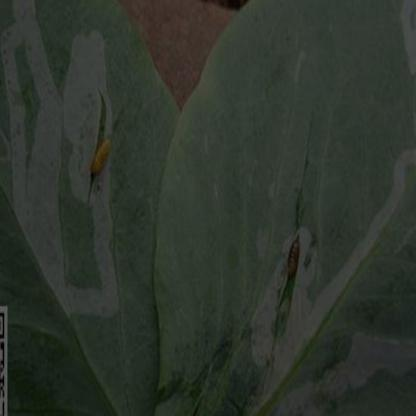whorl-maggot: (88, 127, 115, 188), (282, 228, 304, 286)
